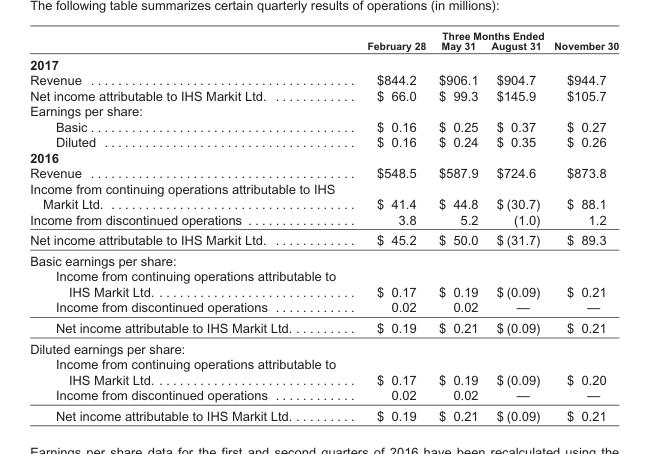table: (29, 29, 618, 422)
table column: (29, 29, 350, 422), (350, 29, 431, 422), (546, 29, 618, 422), (484, 29, 546, 422), (431, 29, 484, 422)
table column header: (29, 29, 618, 53)
table projected row header: (29, 53, 618, 71), (29, 250, 618, 268), (29, 337, 618, 355), (29, 102, 618, 118), (29, 149, 618, 164)
table row: (29, 180, 618, 211), (29, 268, 618, 299), (29, 355, 618, 386), (29, 229, 618, 250), (29, 317, 618, 337), (29, 386, 618, 405), (29, 53, 618, 71), (29, 211, 618, 229), (29, 250, 618, 268), (29, 299, 618, 317), (29, 337, 618, 355), (29, 405, 618, 422), (29, 71, 618, 87), (29, 102, 618, 118), (29, 133, 618, 149), (29, 164, 618, 180), (29, 87, 618, 102), (29, 118, 618, 133), (29, 149, 618, 164), (29, 40, 618, 53), (29, 29, 618, 40)
table spanning cell: (350, 29, 618, 40)
